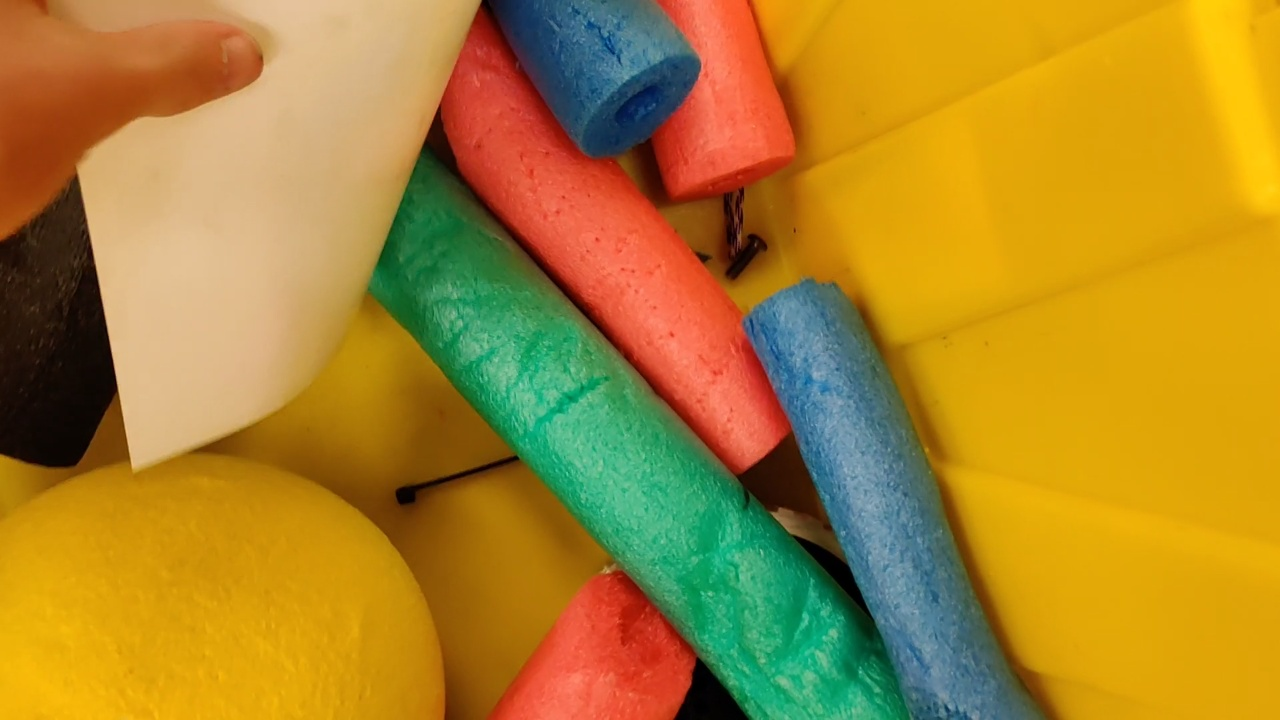Ball: (3, 449, 447, 720)
